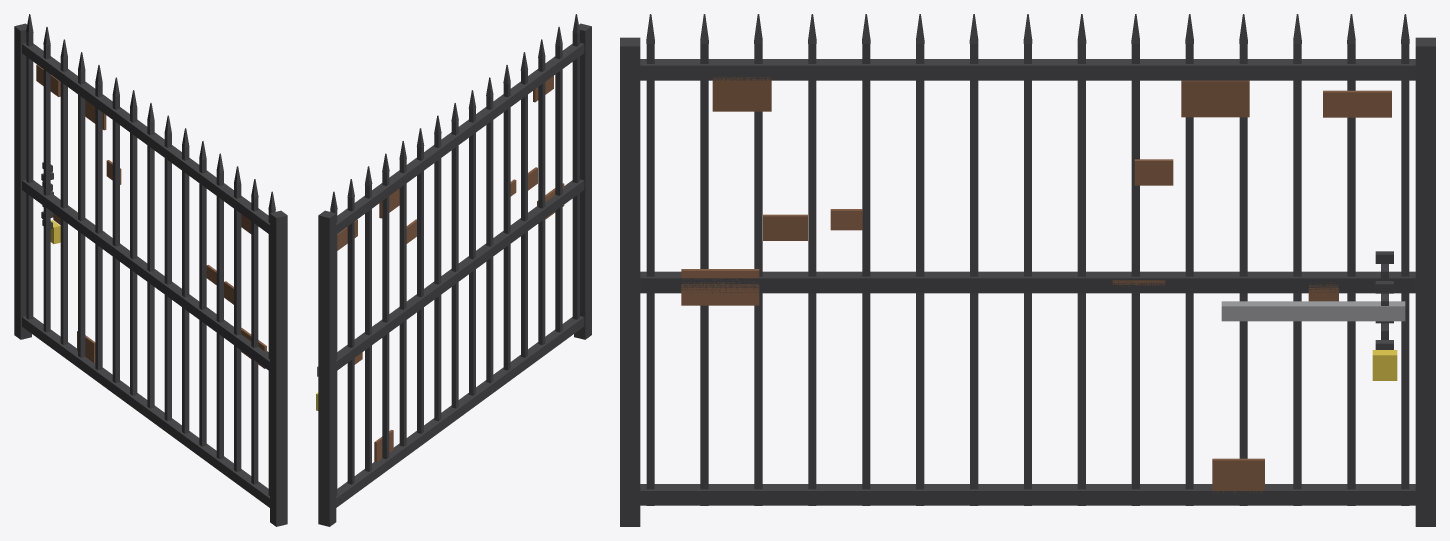
The model's file is shortcut_gate.glb.
3 renders of one model, left to right at view 1: azimuth 30°, elevation 25°; view 2: azimuth 150°, elevation 25°; view 3: azimuth 270°, elevation 25°, orthographic. The views are drawn at different scales.
Visible parts, largest first — view 1: shortcut_gate; view 2: shortcut_gate; view 3: shortcut_gate.
Part boxes in pixels (x1,y1,x2,y2): shortcut_gate: (14,14,287,526); shortcut_gate: (316,14,591,526); shortcut_gate: (620,14,1435,526).
Bounding box in the file's own units: 0.23 × 2.75 × 4.
